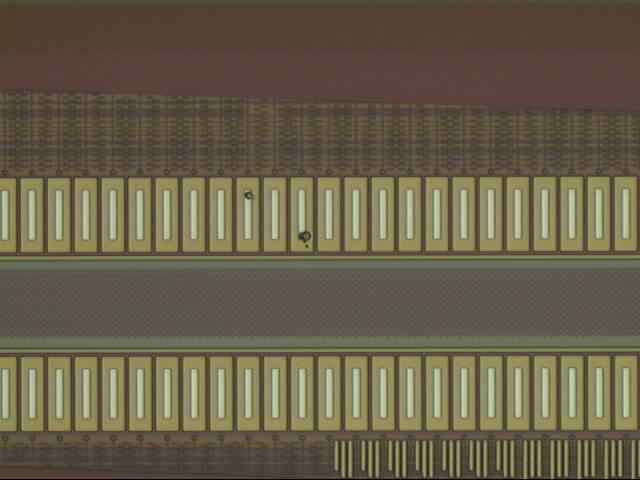PIQ PARTICLE: (242, 188, 315, 252)
